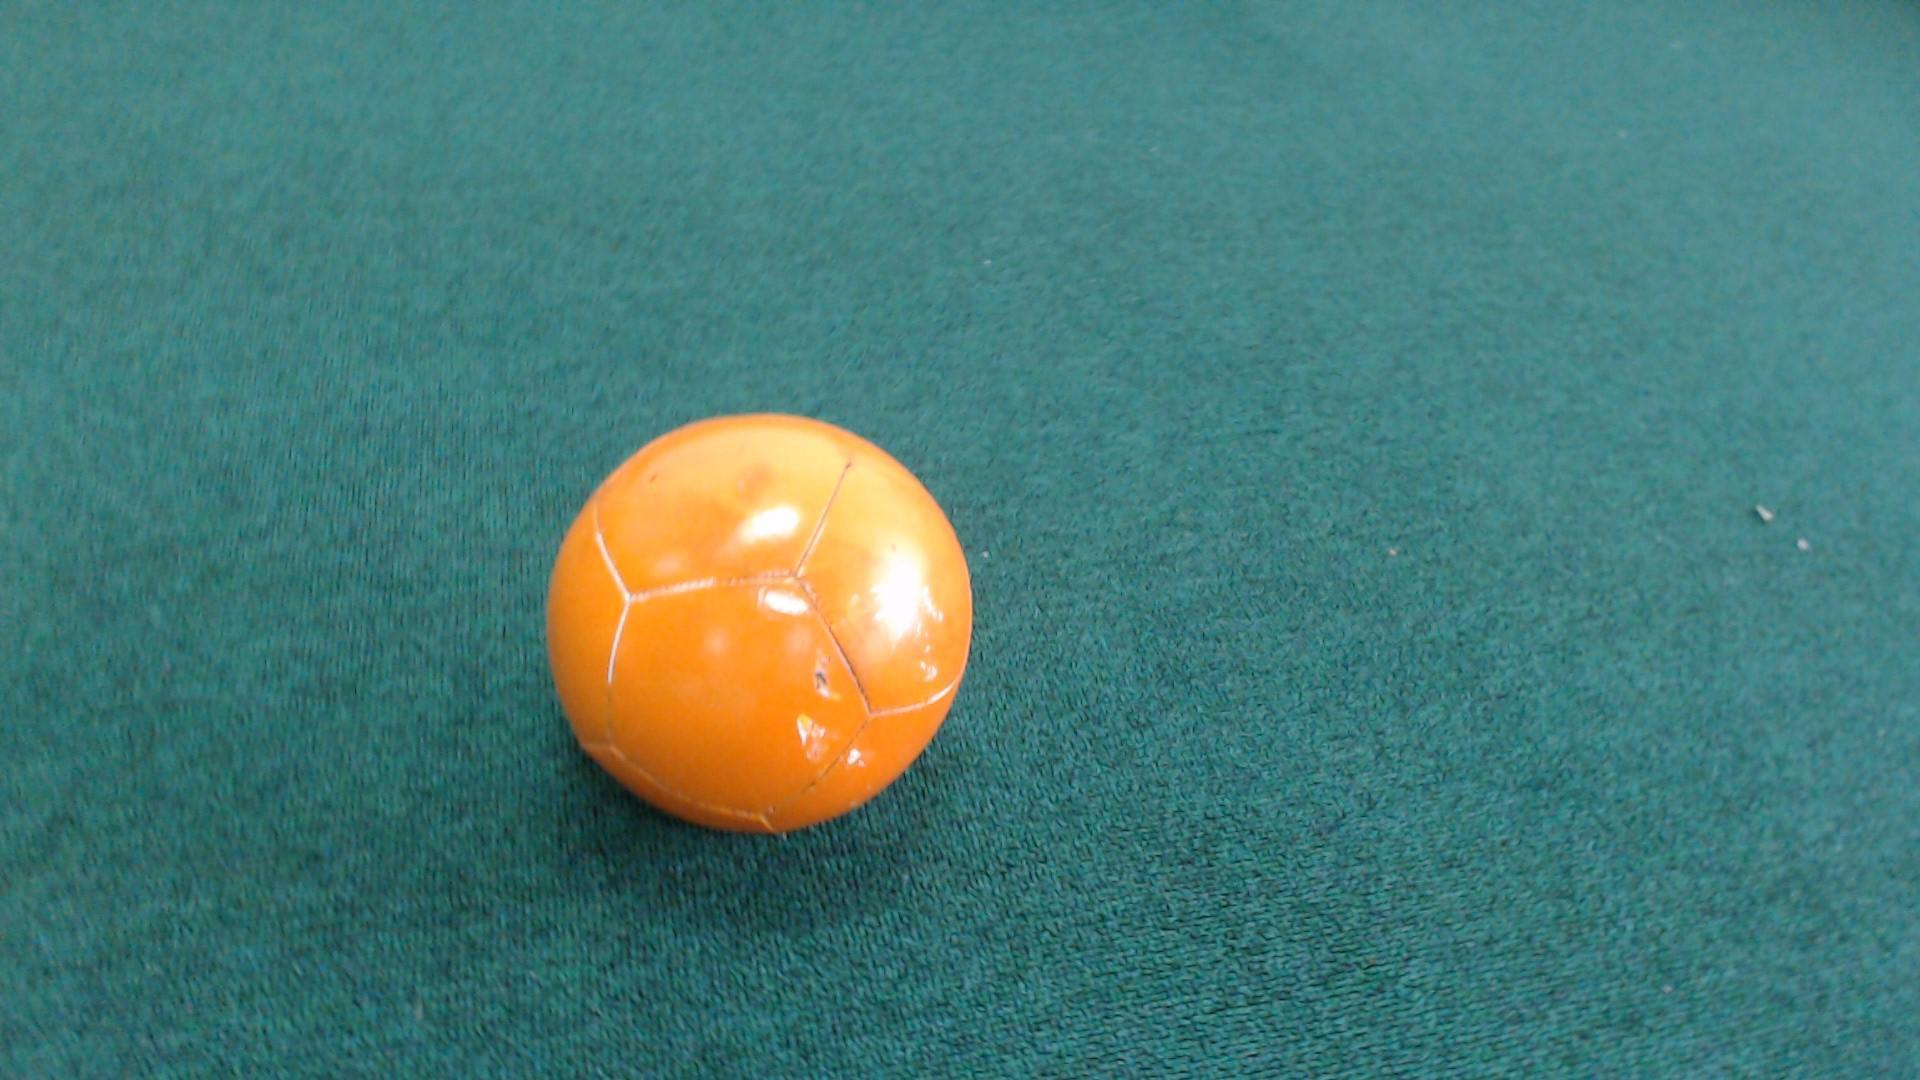bola: (517, 389, 1021, 858)
